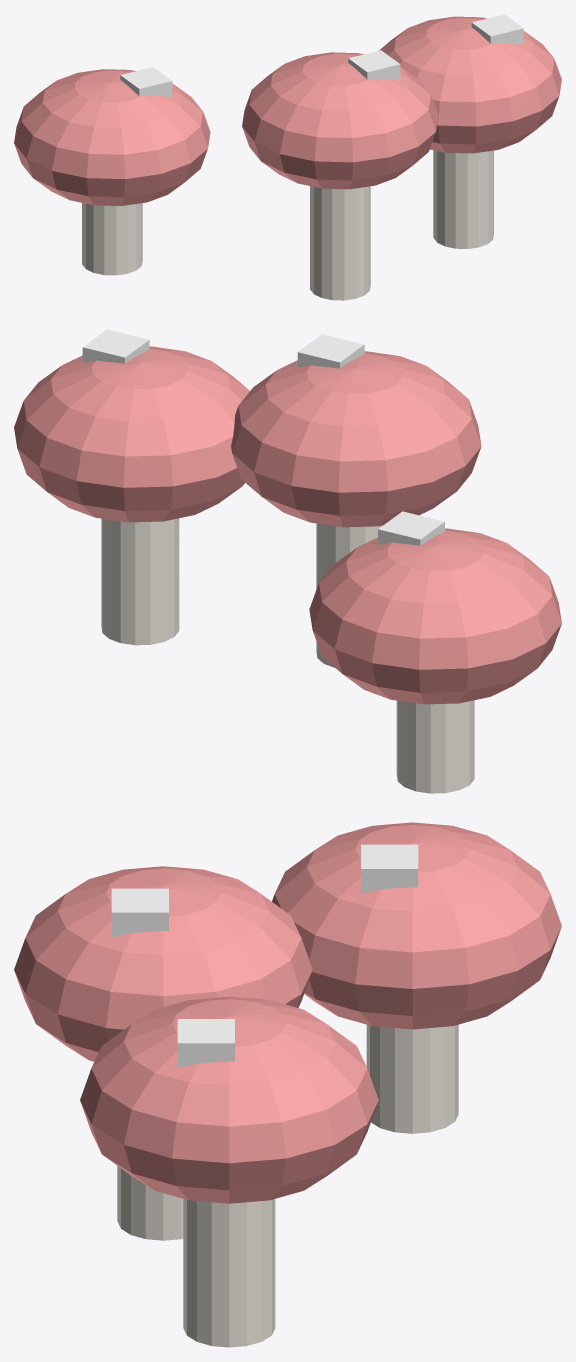
Rendered from Mushrooms.glb.
3 renders of one model, top to bottom at view 1: azimuth 30°, elevation 25°; view 2: azimuth 150°, elevation 25°; view 3: azimuth 270°, elevation 25°, orthographic. The views are drawn at different scales.
Parts seen in each view (by area): view 1: Mushrooms_0, Mushrooms_1, Mushrooms_2; view 2: Mushrooms_0, Mushrooms_1, Mushrooms_2; view 3: Mushrooms_0, Mushrooms_1, Mushrooms_2.
Part boxes in pixels (x1,y1,x2,y2): Mushrooms_0: (14, 16, 561, 205); Mushrooms_1: (82, 150, 493, 300); Mushrooms_2: (120, 14, 523, 97); Mushrooms_0: (14, 346, 561, 704); Mushrooms_1: (101, 518, 474, 793); Mushrooms_2: (82, 329, 444, 545); Mushrooms_0: (14, 822, 561, 1203); Mushrooms_1: (117, 1024, 458, 1347); Mushrooms_2: (111, 844, 418, 1067).
Size of the model in its own units: 3.5 by 1.63 by 2.38.
